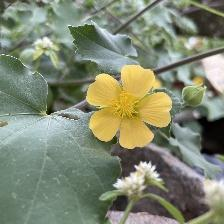indian mallow: (86, 64, 174, 152)
